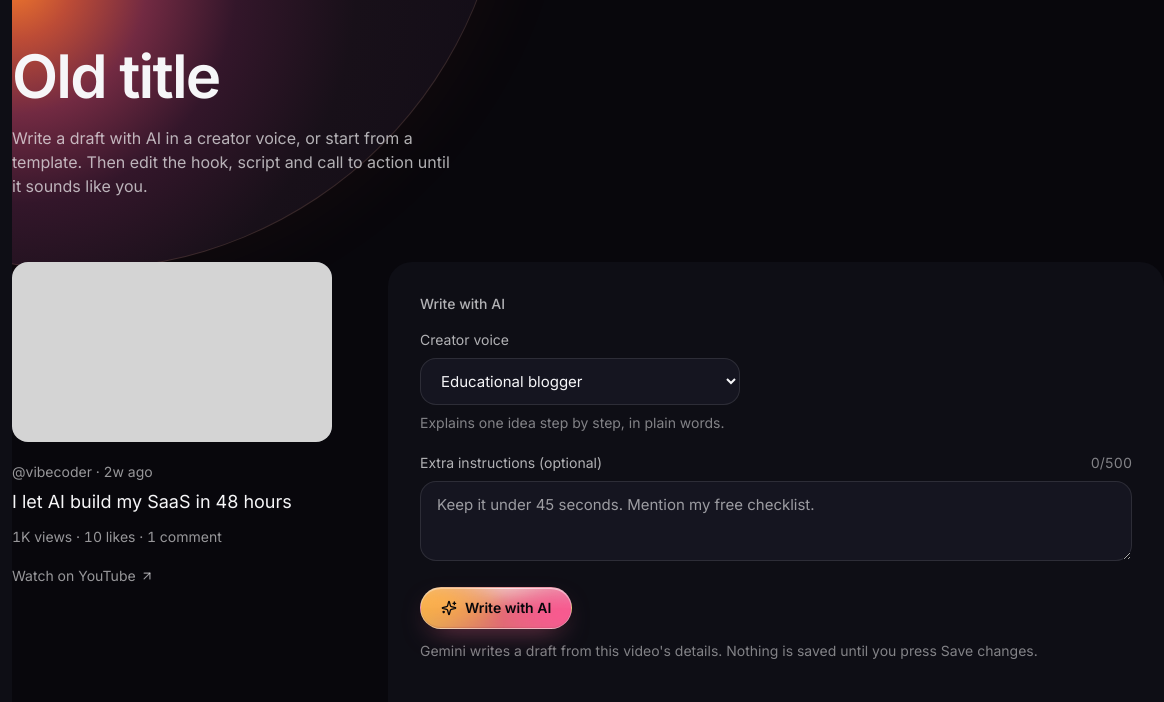
Test: Write with AI: loading and success › shows the loading state, then fills the fields as unsaved and saves only on Save changes
Later steps or results of the test are not shown.
Expected: the heading "Write with AI" is shown, 420,295 -> 505,312
Select "Expert reviewer" in the dropdown labelled "Creator voice" at (580, 382), box 420,358 -> 740,405
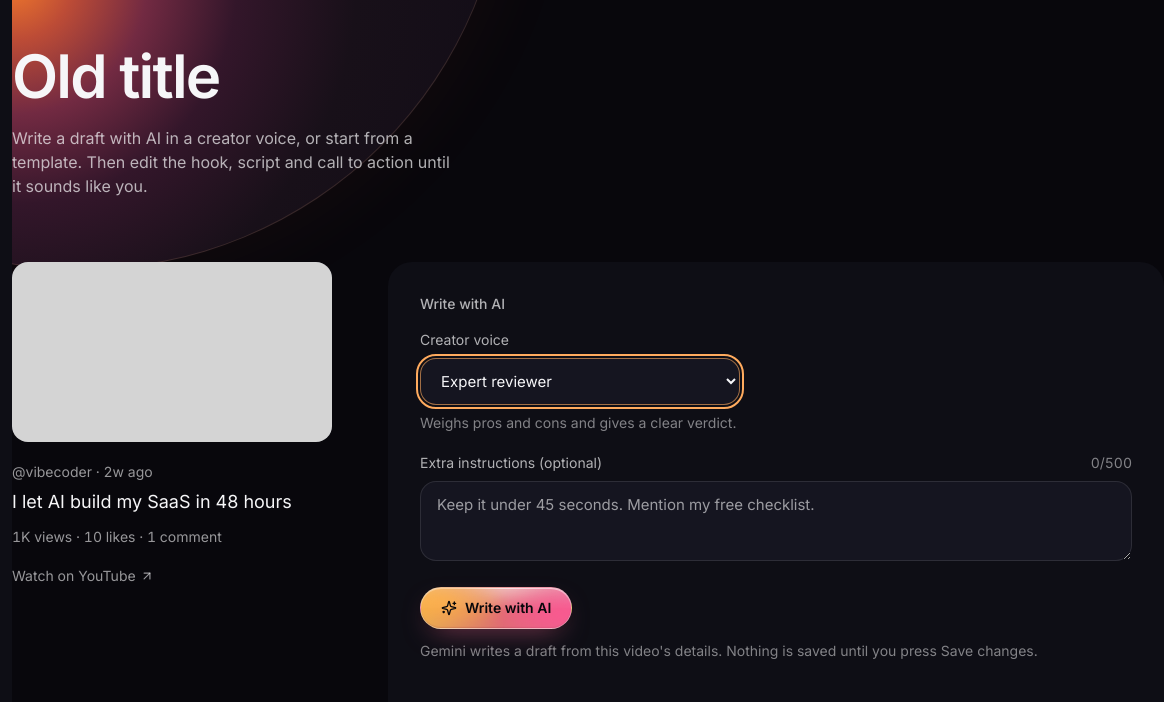
Type "Keep it short." into the text box labelled "Extra instructions (optional)" at (776, 521), box 420,481 -> 1132,561
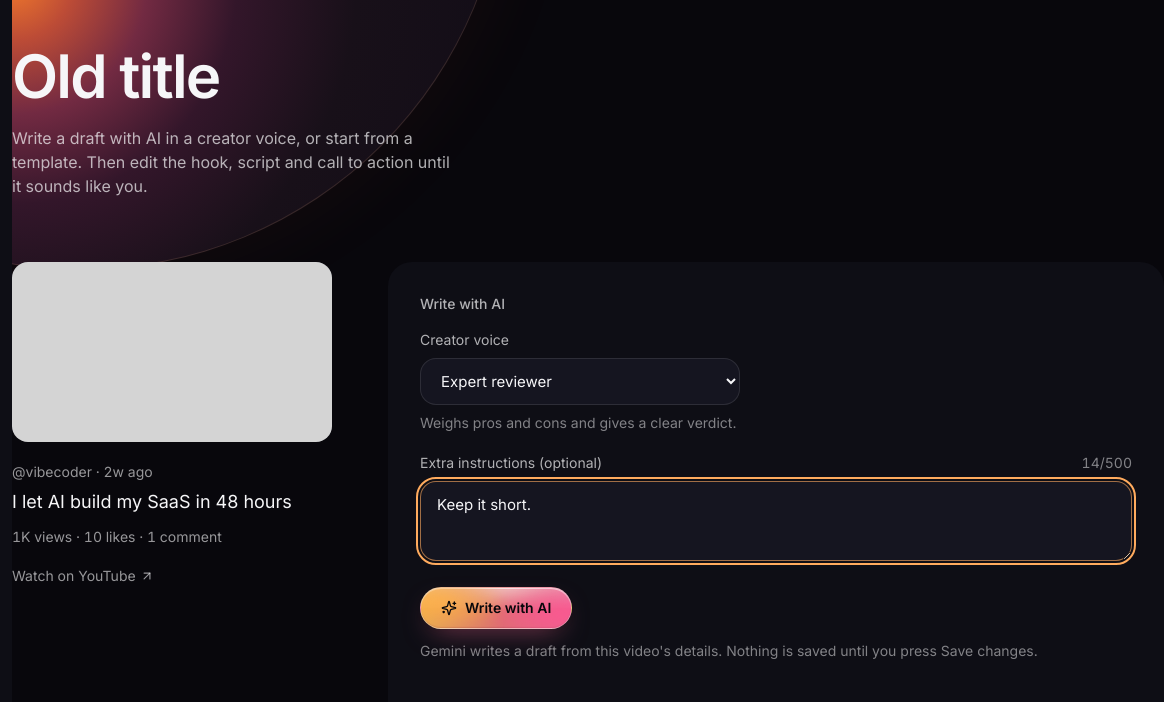
Click the button "Write with AI" at (496, 608), box 420,587 -> 572,629
(page scrolled)
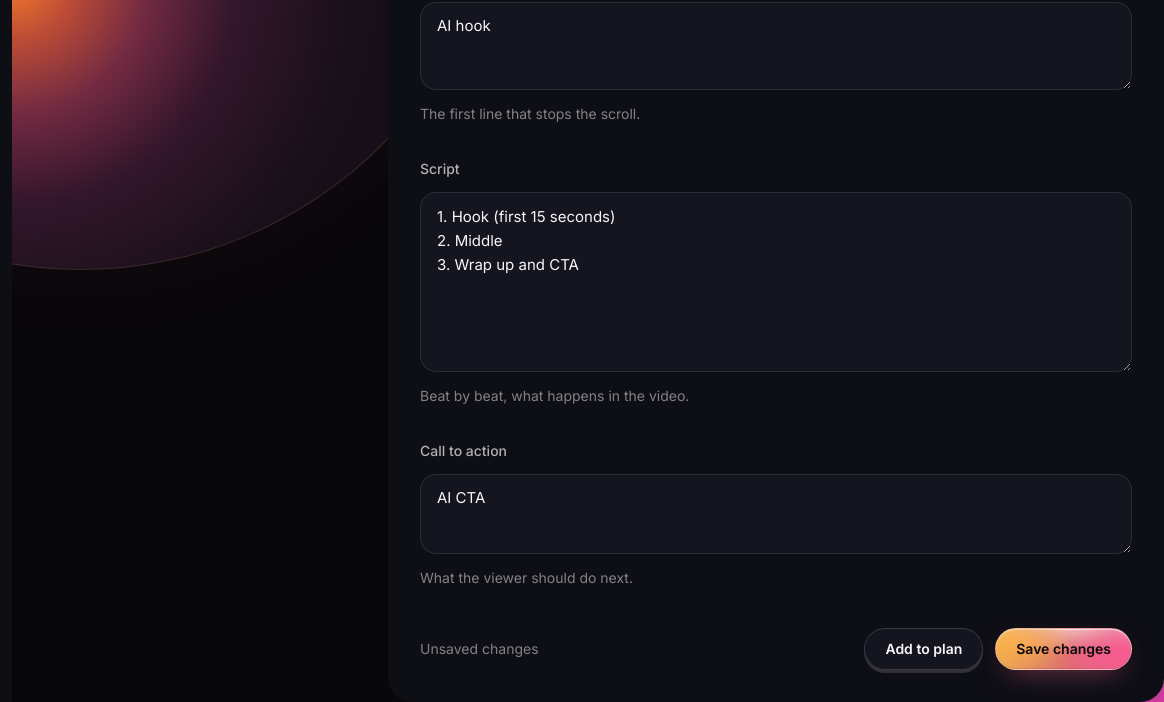
Expected: the button "Add to plan" is enabled, 864,628 -> 983,670
Now the text "Unsaved changes" is shown, box 420,638 -> 539,658
Click the button "Save changes" at (1064, 648), box 995,628 -> 1132,670
(page scrolled)
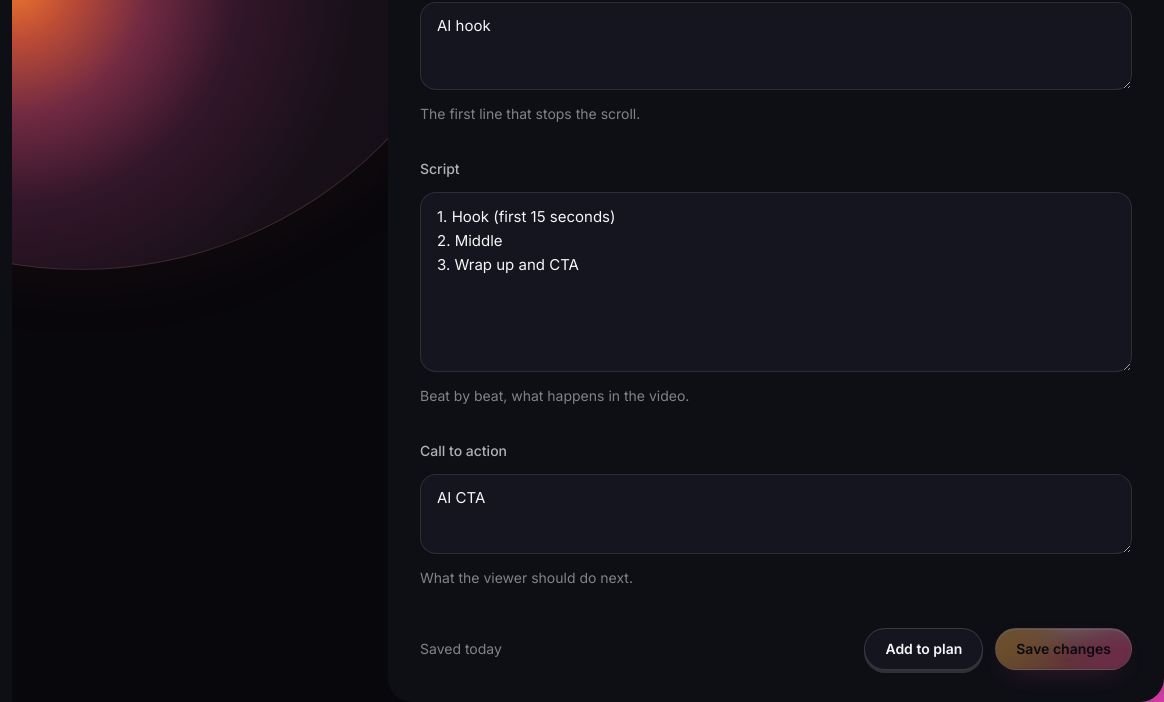
Now the text "Saved today" is shown, box 420,638 -> 502,658
